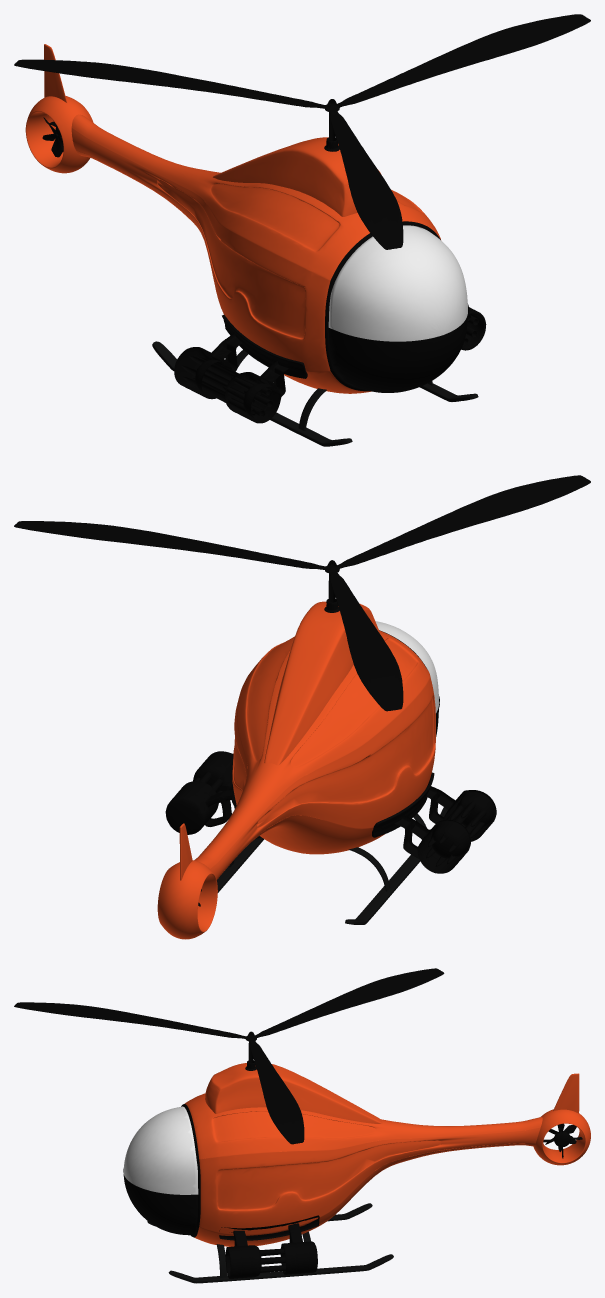
The model's file is Helicopter-optim.glb.
3 renders of one model, top to bottom at view 1: azimuth 30°, elevation 25°; view 2: azimuth 150°, elevation 25°; view 3: azimuth 270°, elevation 25°, orthographic. The views are drawn at different scales.
Parts seen in each view (by area): view 1: HelicopterBody, BackMotor, Sphere, BackWingsContainer, StandPlane, GlassGasket; view 2: HelicopterBody, BackMotor, BackWingsContainer, StandPlane, Sphere; view 3: HelicopterBody, BackMotor, BackWingsContainer, Sphere, StandPlane, GlassGasket.
Boxes of the visible parts, x1,y1,x2,y2 form: HelicopterBody: (71, 114, 440, 393); BackMotor: (14, 14, 590, 423); Sphere: (328, 225, 467, 341); BackWingsContainer: (25, 44, 381, 216); StandPlane: (152, 341, 478, 446); GlassGasket: (325, 221, 440, 391); HelicopterBody: (194, 630, 435, 879); BackMotor: (14, 475, 590, 906); BackWingsContainer: (157, 601, 379, 939); StandPlane: (217, 807, 447, 924); Sphere: (375, 621, 438, 712); HelicopterBody: (184, 1093, 542, 1246); BackMotor: (14, 968, 582, 1278); BackWingsContainer: (205, 1063, 590, 1165); Sphere: (123, 1106, 198, 1194); StandPlane: (147, 1203, 393, 1283); GlassGasket: (181, 1104, 200, 1237).
Size of the model in its own units: 3.66 by 2.15 by 5.11.
